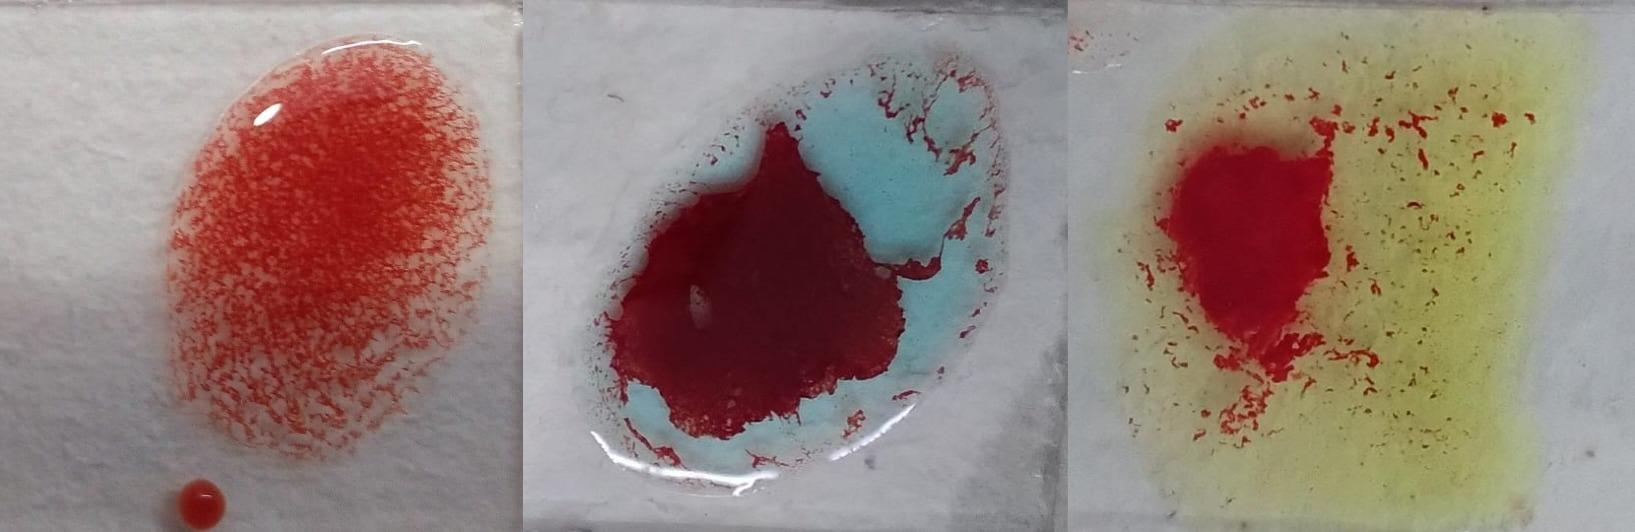A: (582, 41, 1011, 484)
B: (1120, 25, 1505, 494)
D: (158, 28, 481, 443)
